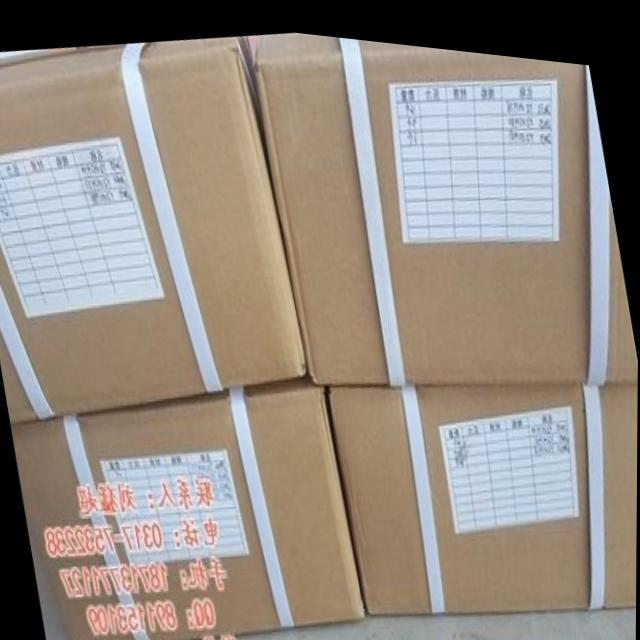box: (255, 26, 638, 378), (0, 30, 307, 419), (10, 364, 366, 640), (328, 367, 638, 605)
